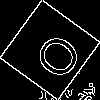O: (25, 25, 85, 83)
